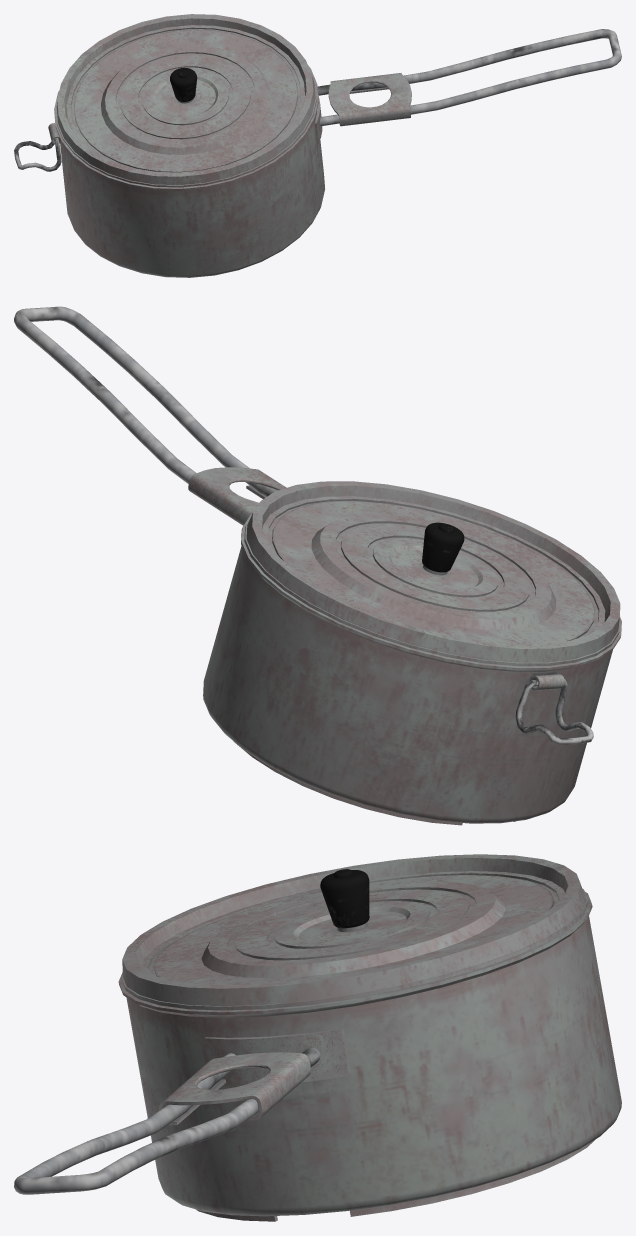
The picture shows the model from 3 angles, top to bottom: view 1: azimuth 30°, elevation 25°; view 2: azimuth 150°, elevation 25°; view 3: azimuth 270°, elevation 25°; orthographic projection. The views are drawn at different scales.
Parts seen in each view (by area): view 1: Pot_low; view 2: Pot_low; view 3: Pot_low.
Boxes of the visible parts, x1=… form: Pot_low: x1=14, y1=14, x2=621, y2=277; Pot_low: x1=14, y1=306, x2=621, y2=825; Pot_low: x1=14, y1=854, x2=621, y2=1221.
Size of the model in its own units: 437 by 153 by 259.
Materials: 3 (3 with a texture image).
